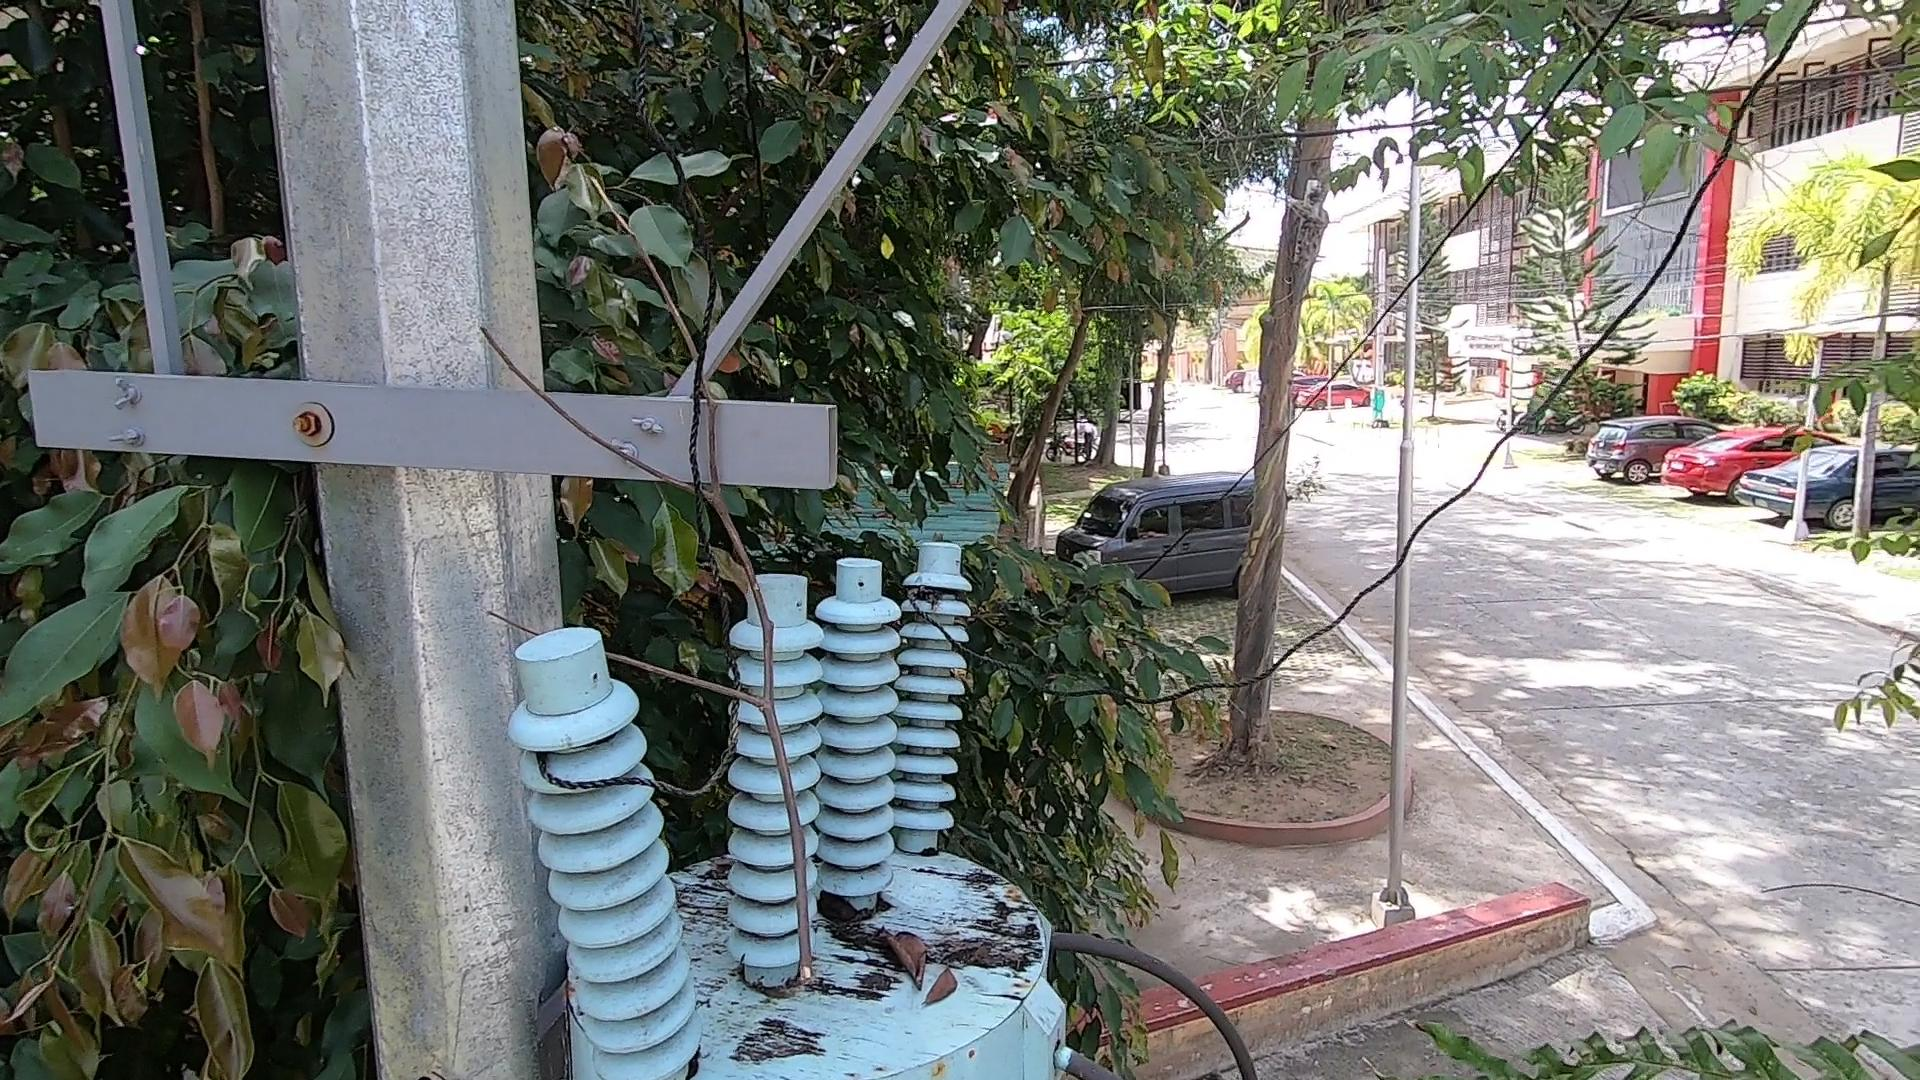leaf: (869, 923, 938, 994), (916, 963, 977, 1021), (815, 885, 872, 935)
tree branch: (487, 185, 845, 978)
